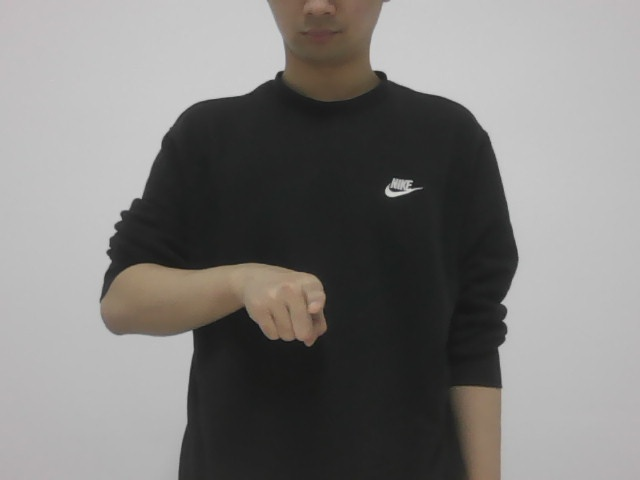you/your/this: (230, 249, 341, 359)
